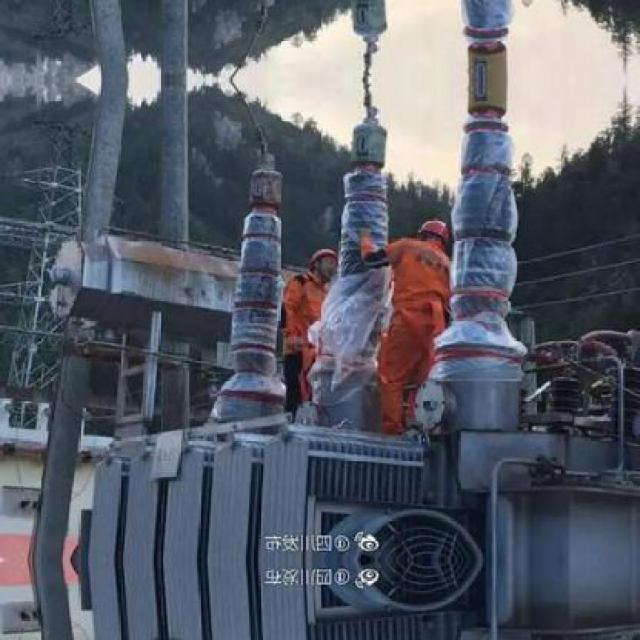Reflective-Jacket: (376, 234, 458, 352), (272, 271, 338, 360)
Safety-Helmet: (299, 242, 346, 284), (411, 212, 455, 250)
